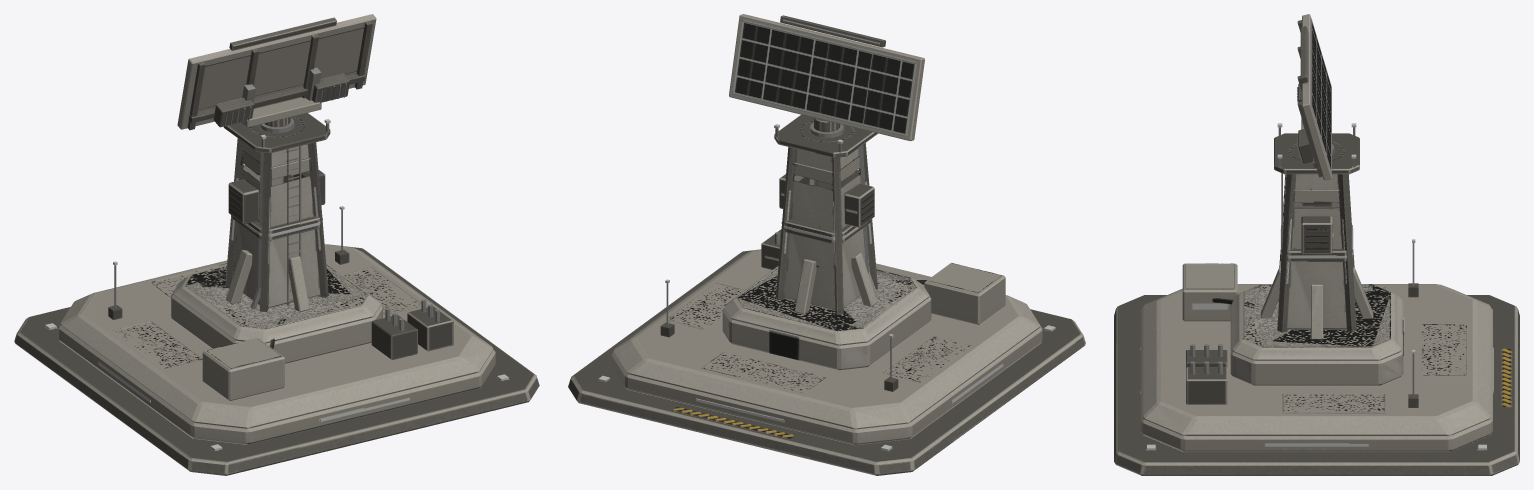
The model's file is ord_beacon.fbx.
3 renders of one model, left to right at view 1: azimuth 30°, elevation 25°; view 2: azimuth 150°, elevation 25°; view 3: azimuth 270°, elevation 25°, orthographic.
Parts seen in each view (by area): view 1: base_bar, radar_bar, base_glow_running_bar; view 2: base_bar, radar_bar, radar_glow_running_bar, base_glow_running_bar; view 3: base_bar, radar_bar, base_glow_running_bar, radar_glow_running_bar.
Boxes of the visible parts, x1,y1,x2,y2 form: base_bar: (14,113,539,475); radar_bar: (177,14,376,130); base_glow_running_bar: (45,119,508,450); base_bar: (568,114,1085,475); radar_bar: (729,14,924,141); radar_glow_running_bar: (733,19,916,136); base_glow_running_bar: (598,124,1055,451); base_bar: (1114,127,1519,475); radar_bar: (1297,14,1331,180); base_glow_running_bar: (1140,123,1493,450); radar_glow_running_bar: (1307,19,1331,172).
Size of the model in its own units: 2354 by 2374 by 2354.
Materials: 2 (2 with a texture image).
